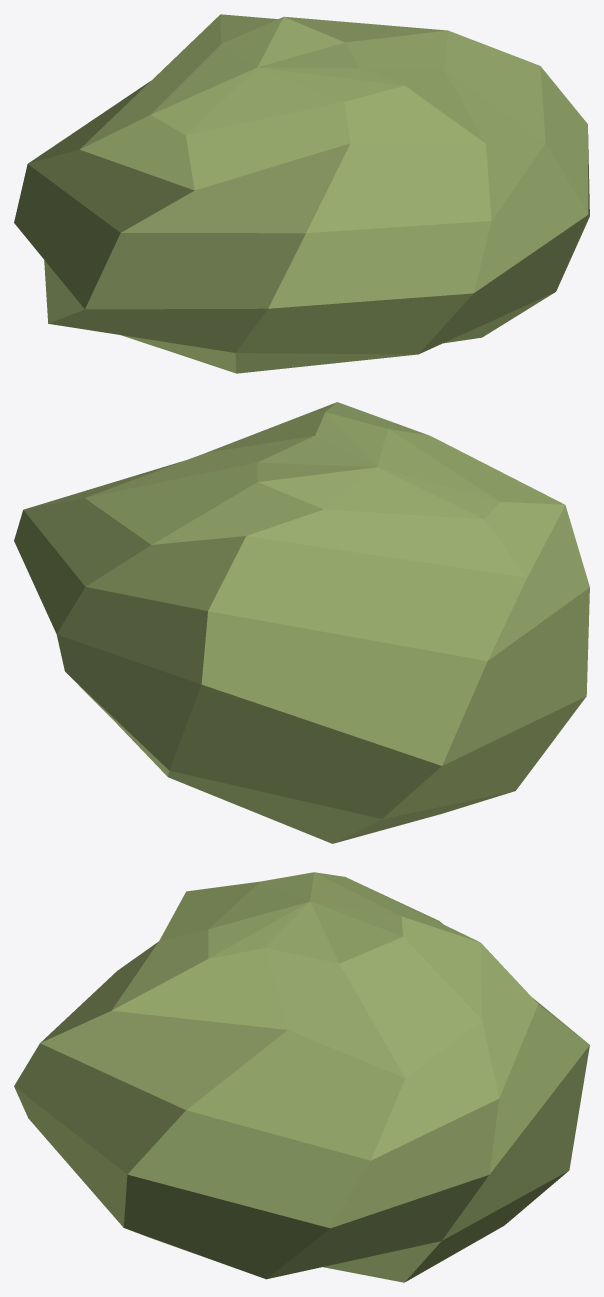
The model's file is garden_bush.fbx.
3 renders of one model, top to bottom at view 1: azimuth 30°, elevation 25°; view 2: azimuth 150°, elevation 25°; view 3: azimuth 270°, elevation 25°, orthographic. The views are drawn at different scales.
Parts seen in each view (by area): view 1: polySurface44; view 2: polySurface44; view 3: polySurface44.
Boxes of the visible parts, left/top/right/bottom form: polySurface44: left=14, top=14, right=589, bottom=373; polySurface44: left=14, top=402, right=589, bottom=843; polySurface44: left=14, top=872, right=589, bottom=1282.
Bounding box in the file's own units: 2.35 × 1.19 × 2.13.
